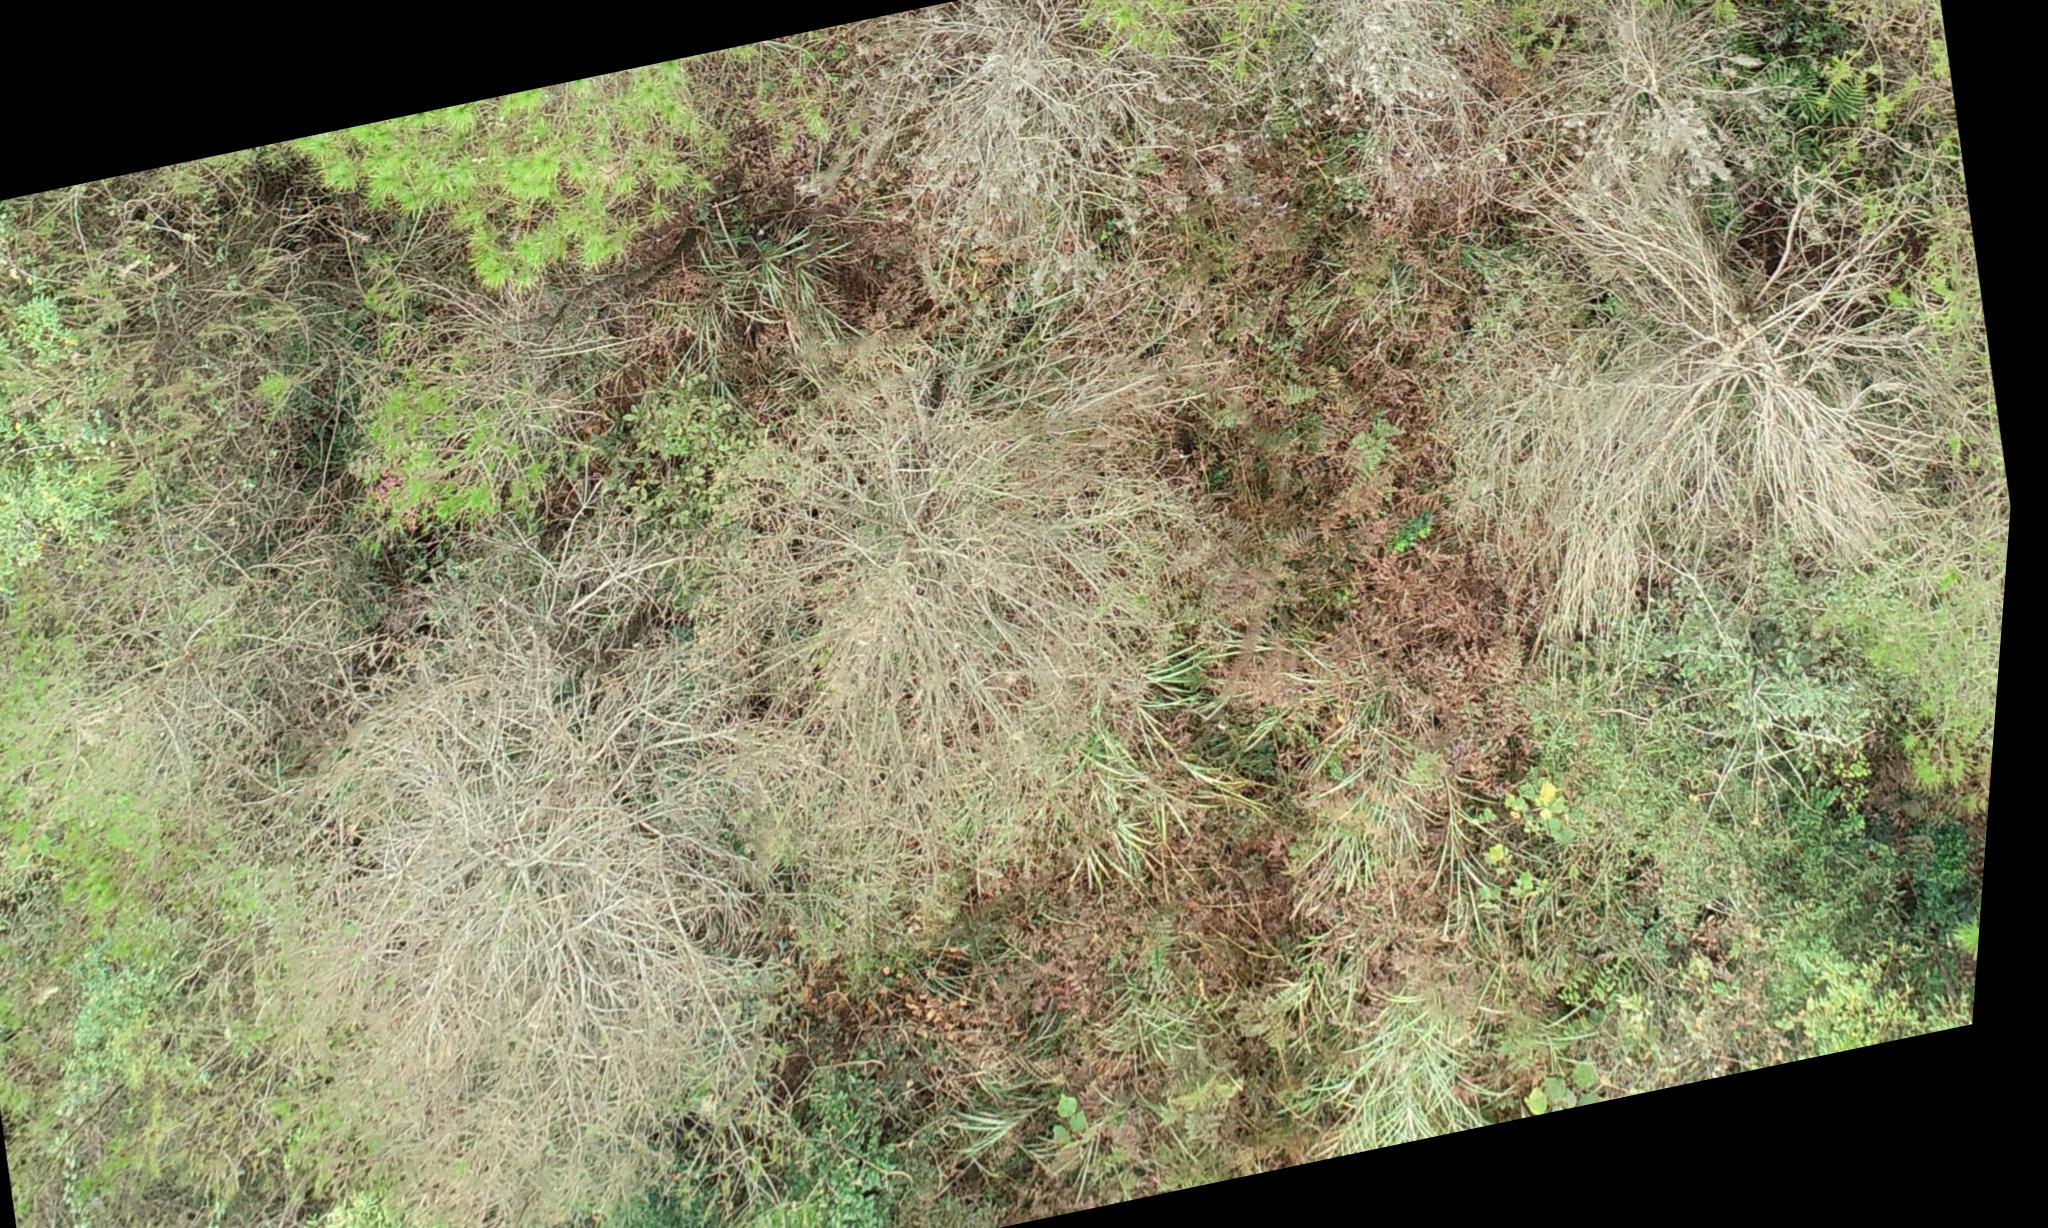dead: (126, 488, 826, 1228), (646, 243, 1326, 971), (1359, 0, 1987, 713), (724, 0, 1194, 297)
